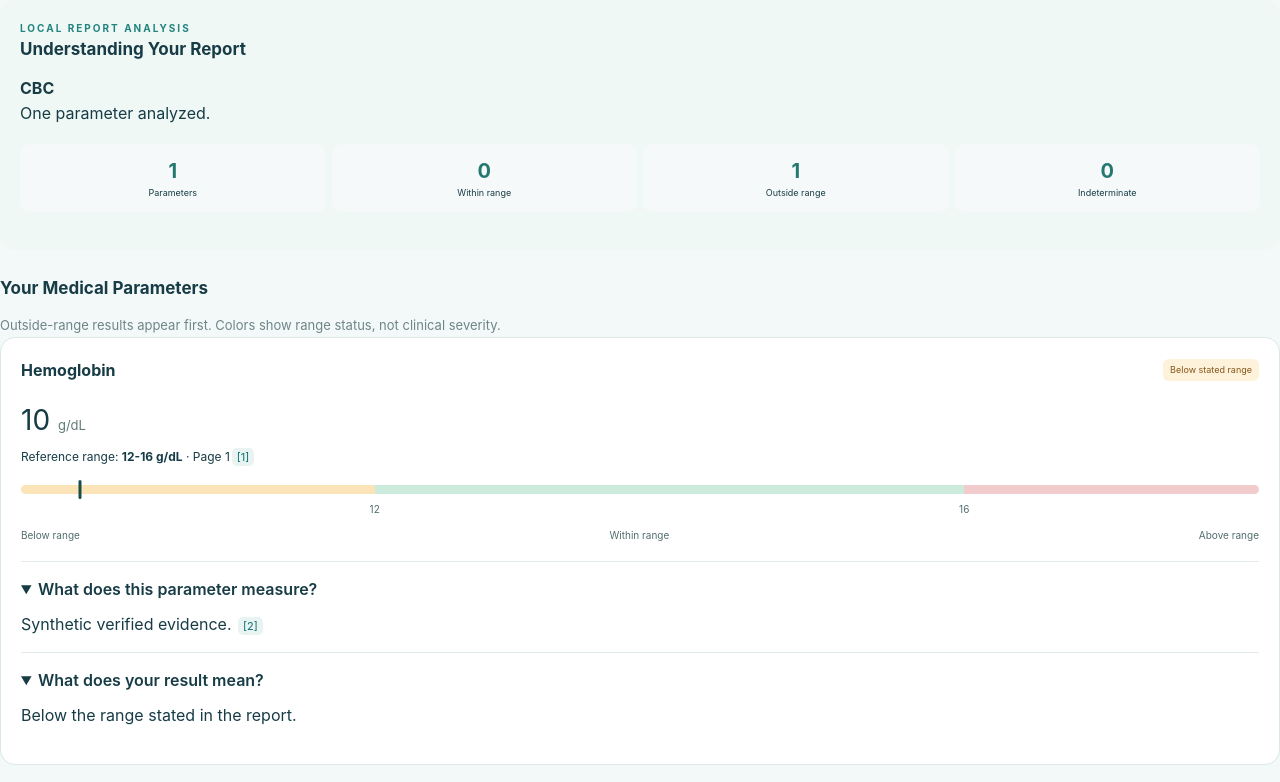
Scenario: expands the actual referenced source
What coordinates should you click on to do the following:
click the link named "Inspect source 2"
I would click on:
 (250, 626)
Its box is [238,617,263,635].
(page scrolled)
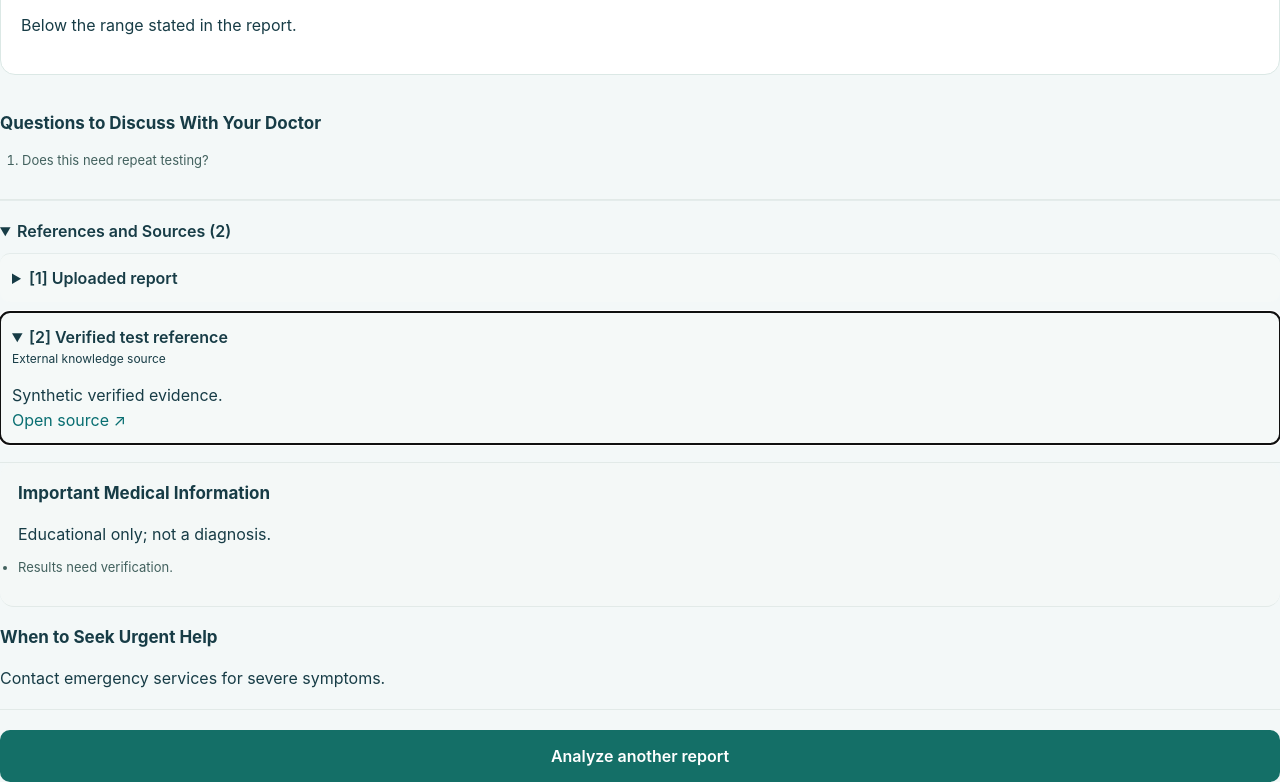
expect the text "[2] Verified test reference" has attribute open: met, box [0,312,1279,444]
